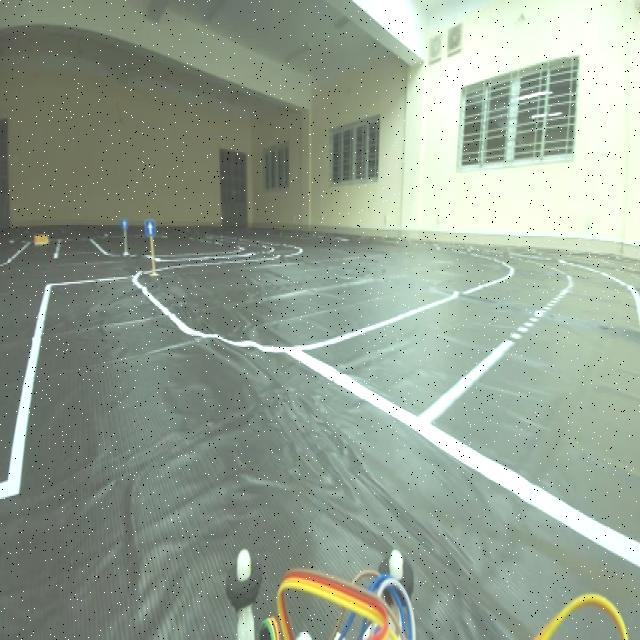onewayroad: (143, 215, 157, 235), (118, 216, 129, 229)
roadblock: (32, 227, 51, 245)
